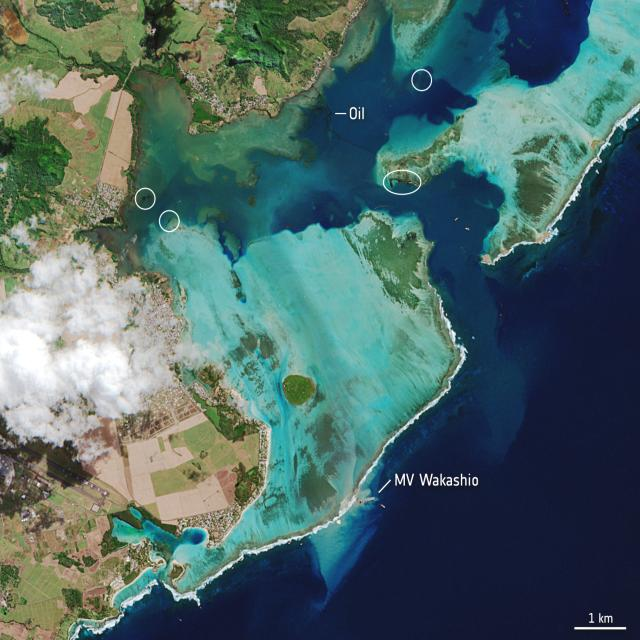oil spill: (466, 0, 592, 86), (390, 79, 476, 124), (350, 83, 414, 104), (287, 208, 343, 229), (384, 173, 419, 194), (134, 188, 155, 210), (411, 69, 432, 91), (159, 210, 179, 232), (335, 113, 346, 115)
